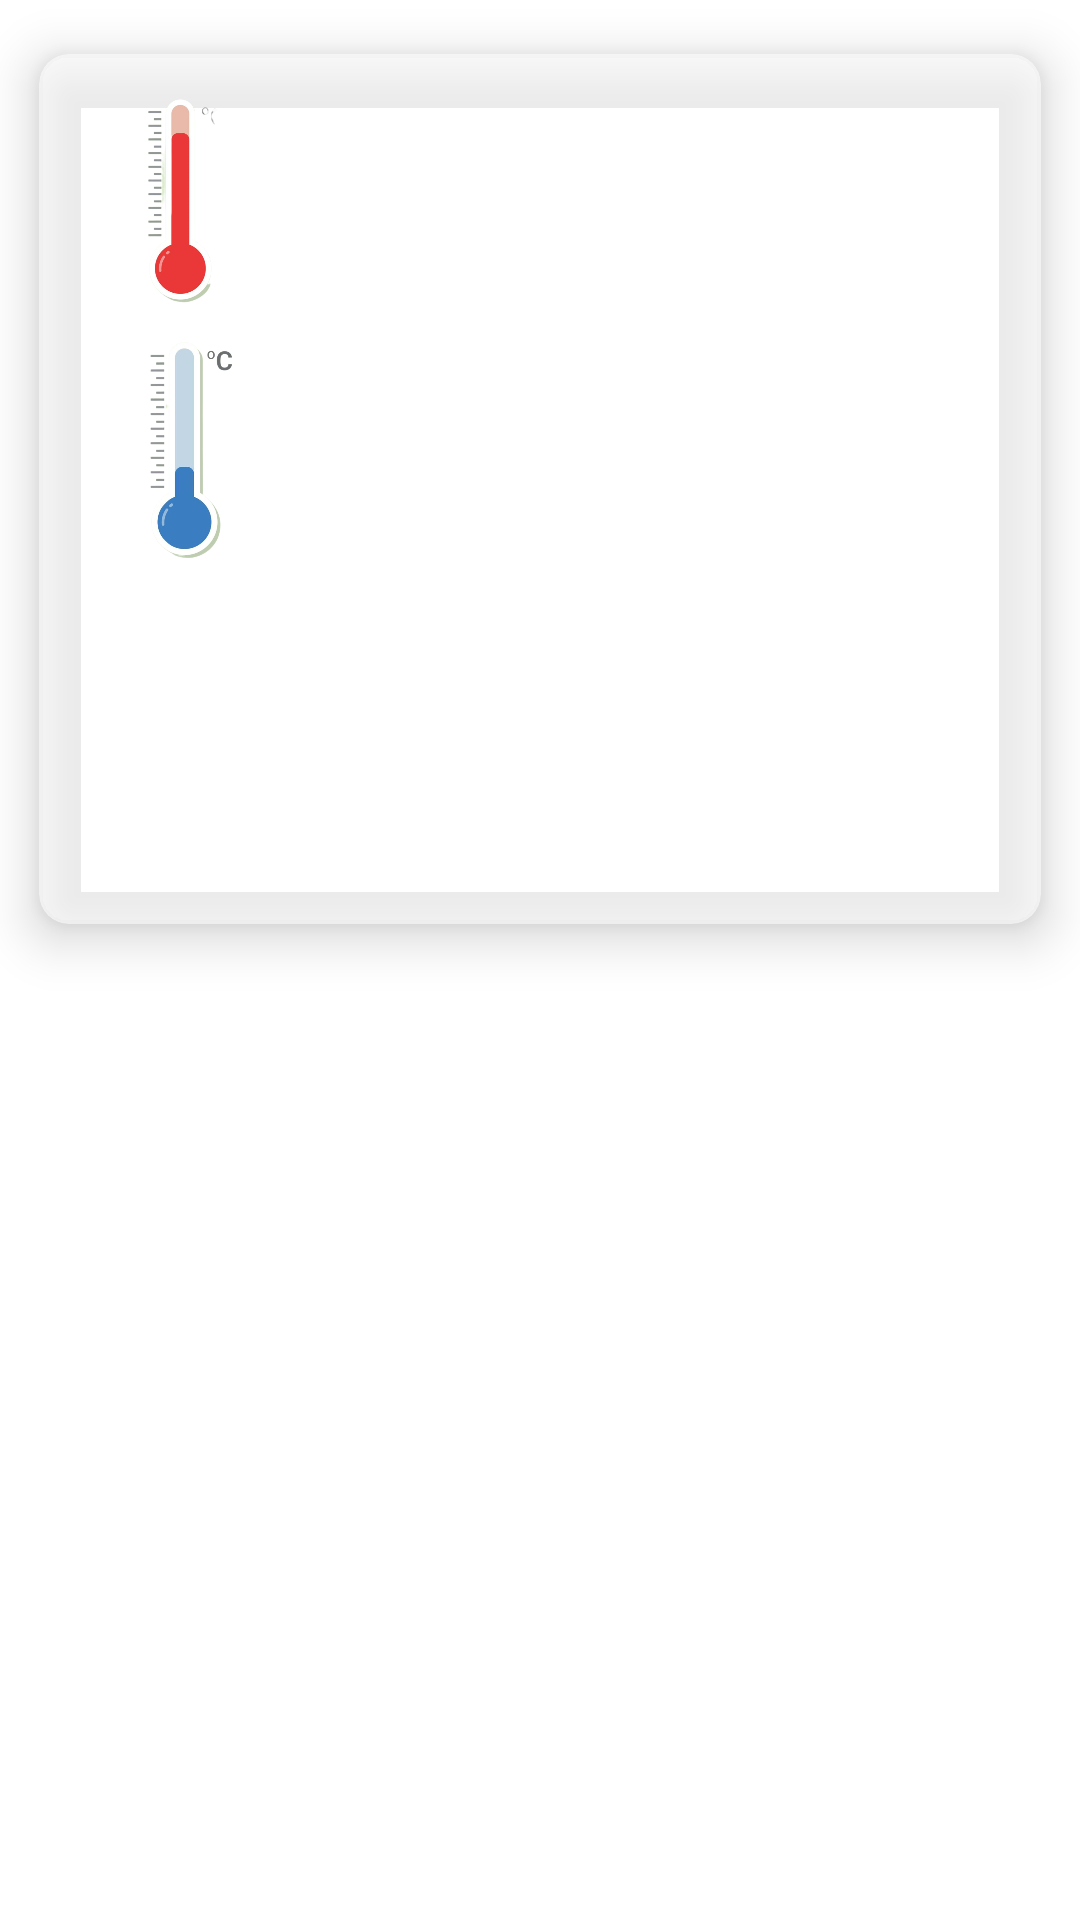

Screen size 1080 x 1920. Icon name, then its box in pixels as Rect(x1, y1, x2, y2):
maxtemp: Rect(81, 99, 309, 324)
mintemp: Rect(150, 348, 232, 558)
